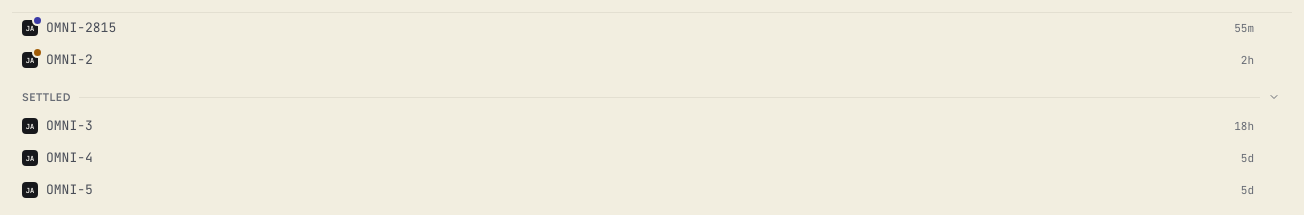
the sessions list › the hover card › opens beside a row after 120ms of hover, with the title, the other number, the kind and state, the model and the workspace
This screenshot has width=1304, height=215.
Hover over the button "JA OMNI-2815 55m": (81,27) top-left (12, 13), bottom-right (1266, 43)
Wait 120 ms
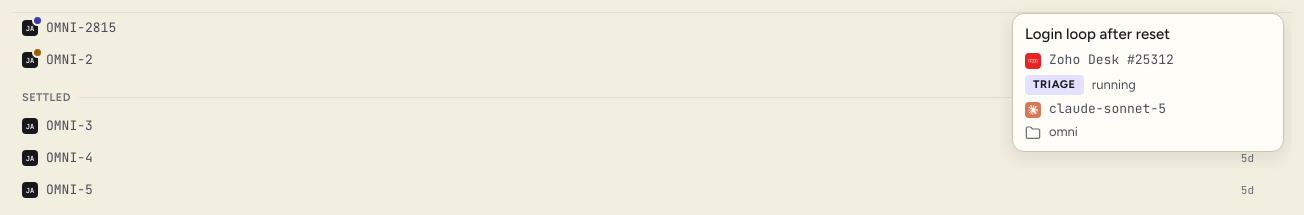
expect the text with class "sd-session-card__title" reads "Login loop after reset": met, box top-left (1025, 25), bottom-right (1170, 43)
expect the list item with class "sd-session-card__row" reads "Zoho Desk #25312": met, box top-left (1049, 51), bottom-right (1174, 68)
expect the picture named "Zoho Desk" is shown: met, box top-left (1025, 53), bottom-right (1041, 69)
